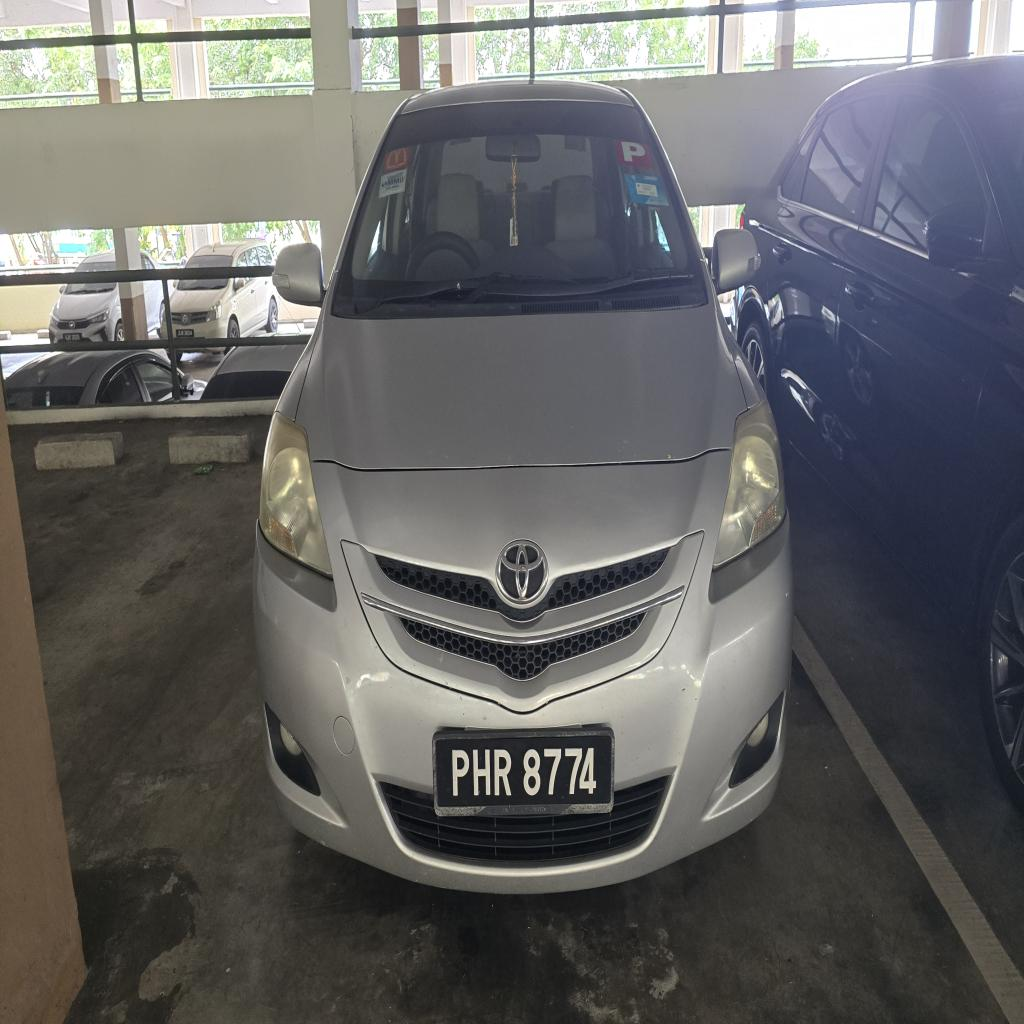car: (254, 83, 791, 892)
car plate: (433, 729, 614, 815)
